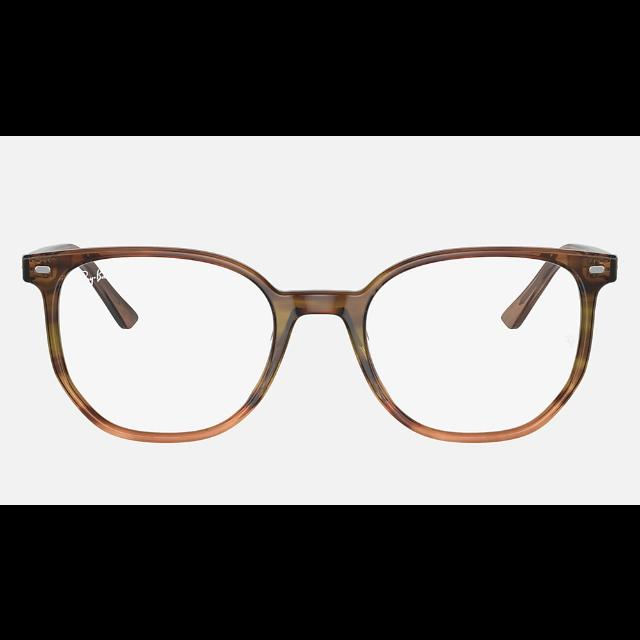glasses: (24, 241, 618, 443)
